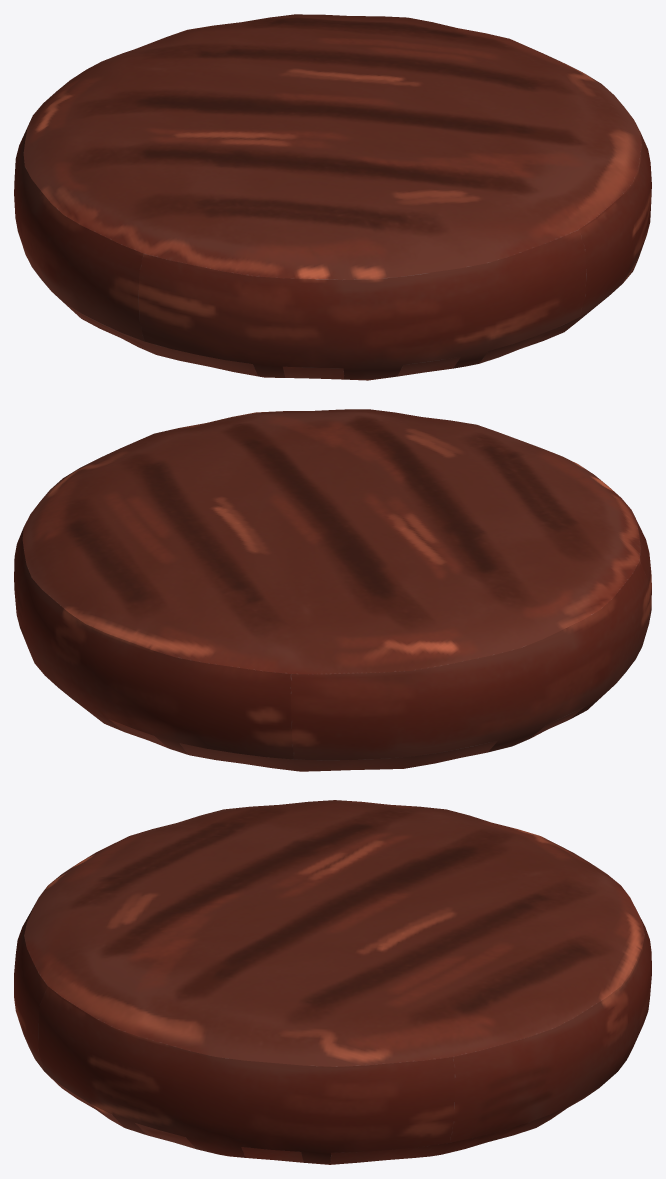
Rendered from Meat.glb.
3 views of the same model, one above another, from view 1: azimuth 30°, elevation 25°; view 2: azimuth 150°, elevation 25°; view 3: azimuth 270°, elevation 25° (orthographic).
Visible parts, largest first — view 1: Meat; view 2: Meat; view 3: Meat.
Part boxes in pixels (<box>): Meat: <box>14,14,651,380</box>; Meat: <box>14,409,651,771</box>; Meat: <box>14,800,651,1164</box>.
Size of the model in its own units: 5.54 by 1.71 by 5.54.
1 material, 1 textured.
